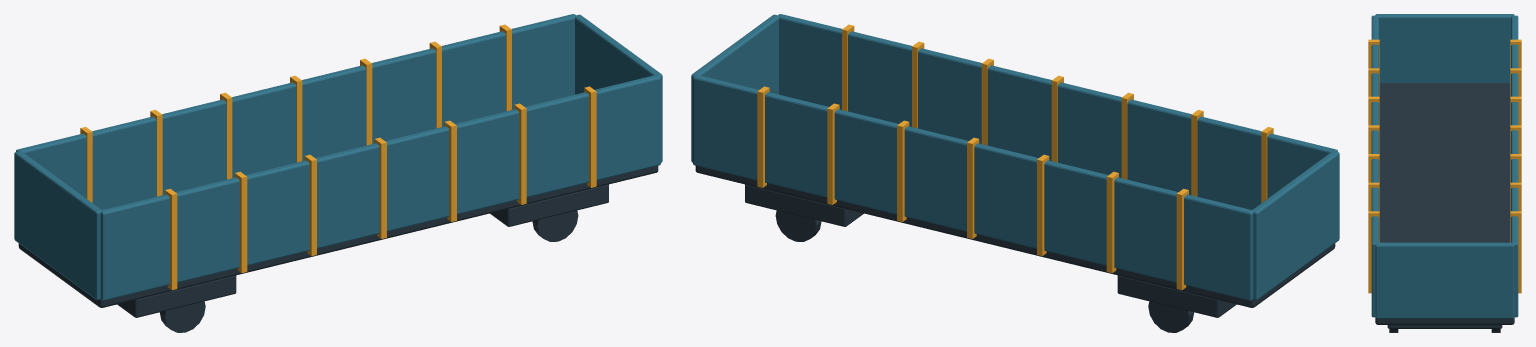
Rendered from wagon-medium.glb.
3 renders of one model, left to right at view 1: azimuth 30°, elevation 25°; view 2: azimuth 150°, elevation 25°; view 3: azimuth 270°, elevation 25°, orthographic. The views are drawn at different scales.
Visible parts, largest first — view 1: wagon_side_left, wagon_side_right, wagon_end_front, wagon_deck, wagon_end_back, bogie, bogie.001, wagon_wheel, wagon_wheel.002, wagon_rib.002, wagon_rib, wagon_rib.004 (+11 smaller); view 2: wagon_side_right, wagon_side_left, wagon_end_front, wagon_deck, wagon_end_back, bogie, bogie.001, wagon_wheel.001, wagon_wheel.003, wagon_rib.003, wagon_rib.001, wagon_rib.005 (+11 smaller); view 3: wagon_deck, wagon_end_back, wagon_end_front, wagon_side_left, wagon_side_right, bogie.001, wagon_rib.012, wagon_rib.013, wagon_rib, wagon_rib.001, wagon_rib.004, wagon_rib.005 (+8 smaller).
Boxes of the visible parts, <box> form: wagon_side_left: <box>100,75,660,300</box>; wagon_side_right: <box>16,14,575,209</box>; wagon_end_front: <box>14,151,101,300</box>; wagon_deck: <box>18,165,658,307</box>; wagon_end_back: <box>575,14,662,162</box>; bogie: <box>117,275,236,317</box>; bogie.001: <box>490,184,608,226</box>; wagon_wheel: <box>159,301,205,332</box>; wagon_wheel.002: <box>532,210,578,241</box>; wagon_rib.002: <box>235,171,247,272</box>; wagon_rib: <box>165,188,177,290</box>; wagon_rib.004: <box>304,154,316,256</box>; wagon_side_right: <box>693,75,1253,300</box>; wagon_side_left: <box>778,14,1337,209</box>; wagon_end_front: <box>1252,151,1339,300</box>; wagon_deck: <box>695,165,1335,307</box>; wagon_end_back: <box>691,14,778,162</box>; bogie: <box>1117,275,1236,317</box>; bogie.001: <box>745,184,863,226</box>; wagon_wheel.001: <box>1148,301,1194,332</box>; wagon_wheel.003: <box>775,210,821,241</box>; wagon_rib.003: <box>1106,171,1118,272</box>; wagon_rib.001: <box>1176,188,1188,290</box>; wagon_rib.005: <box>1037,154,1049,256</box>; wagon_deck: <box>1375,83,1514,324</box>; wagon_end_back: <box>1375,242,1514,318</box>; wagon_end_front: <box>1375,14,1514,82</box>; wagon_side_left: <box>1371,15,1378,317</box>; wagon_side_right: <box>1511,15,1518,317</box>; bogie.001: <box>1387,325,1502,328</box>; wagon_rib.012: <box>1368,211,1379,293</box>; wagon_rib.013: <box>1510,211,1521,293</box>; wagon_rib: <box>1368,39,1379,68</box>; wagon_rib.001: <box>1510,39,1521,68</box>; wagon_rib.004: <box>1368,96,1379,125</box>; wagon_rib.005: <box>1510,96,1521,125</box>.
Bounding box in the file's own units: 13.38 × 3.45 × 3.74.
